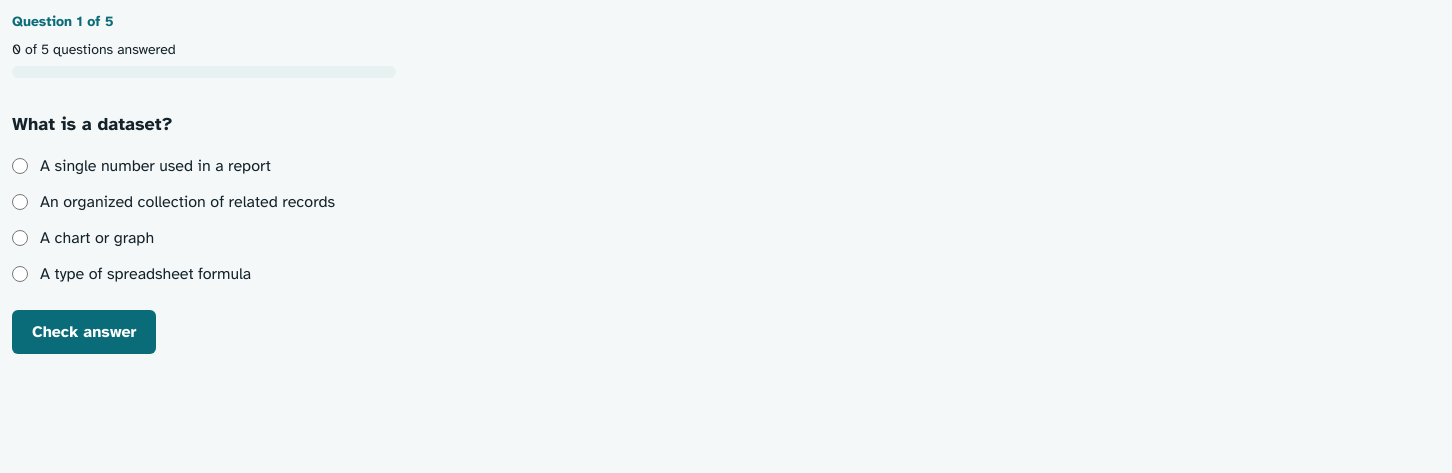
Test: Quiz behavior › announces the result via the aria-live region and moves focus to the feedback after answering
Click the radio button labelled "An organized collection of related records": (20, 202) x1=12 y1=194 x2=28 y2=210
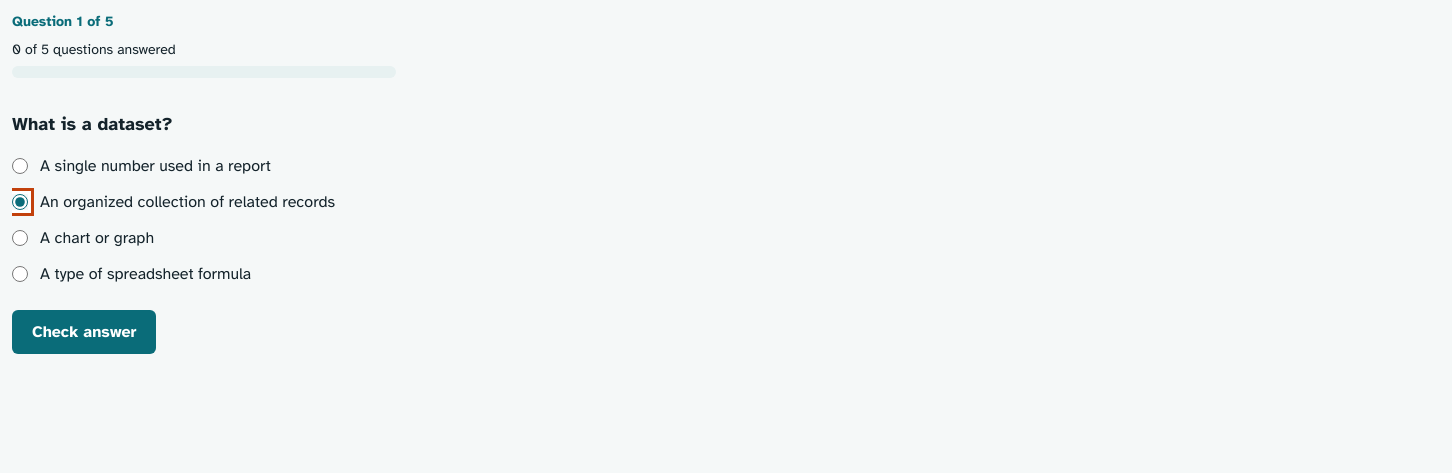
Click the button "Check answer": (84, 332) x1=12 y1=310 x2=156 y2=354
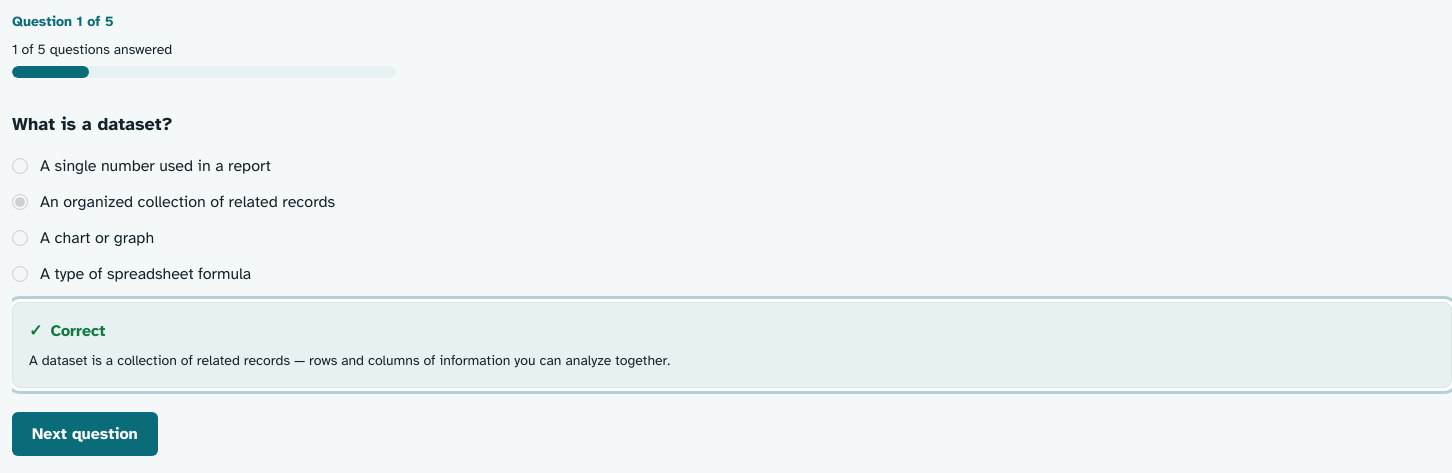
Result: the text "Correct" is shown 2 times
Result: the text "A dataset is a collection of related records — rows and columns of information you can analyze together." is shown at x1=29 y1=352 x2=670 y2=369
Result: the radio button labelled "An organized collection of related records" is disabled at x1=12 y1=194 x2=28 y2=210
